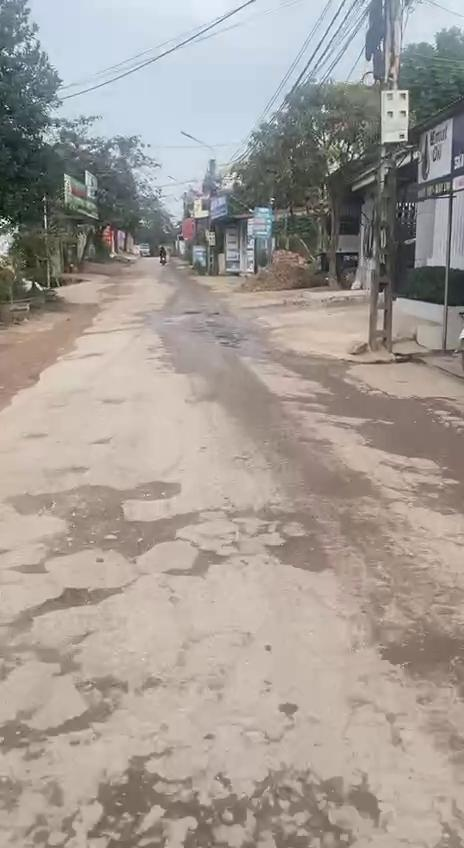pothole: (90, 743, 386, 848), (0, 479, 208, 576), (0, 582, 130, 671), (0, 672, 126, 762), (366, 604, 464, 684), (267, 530, 336, 576), (163, 540, 238, 579)
